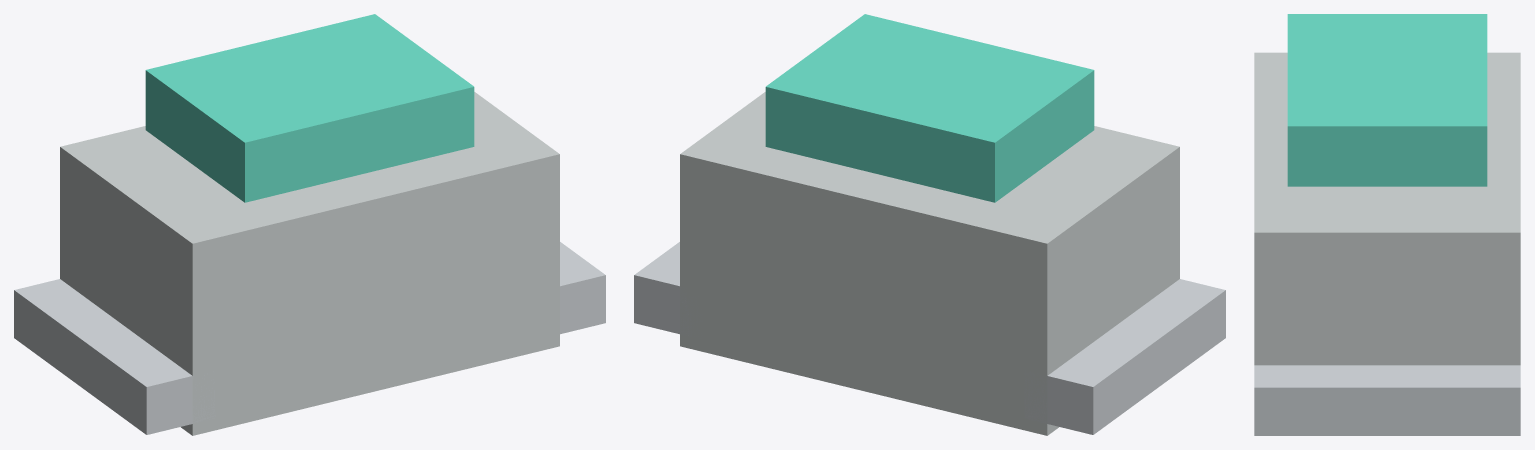
Rendered from 223_L118_LED2.glb.
3 views of the same model, side by side, from view 1: azimuth 30°, elevation 25°; view 2: azimuth 150°, elevation 25°; view 3: azimuth 270°, elevation 25° (orthographic).
Visible parts, largest first — view 1: 0000__PSMAT__ceramic_white, 0001__PSMAT__status_green, 0002__PSMAT__tin, 0003__PSMAT__tin; view 2: 0000__PSMAT__ceramic_white, 0001__PSMAT__status_green, 0002__PSMAT__tin, 0003__PSMAT__tin; view 3: 0000__PSMAT__ceramic_white, 0001__PSMAT__status_green, 0003__PSMAT__tin.
Boxes of the visible parts, bbox=[...] form: 0000__PSMAT__ceramic_white: bbox=[60, 92, 559, 435]; 0001__PSMAT__status_green: bbox=[145, 14, 474, 202]; 0002__PSMAT__tin: bbox=[14, 279, 215, 434]; 0003__PSMAT__tin: bbox=[560, 242, 605, 334]; 0000__PSMAT__ceramic_white: bbox=[680, 92, 1179, 435]; 0001__PSMAT__status_green: bbox=[765, 14, 1094, 202]; 0002__PSMAT__tin: bbox=[1024, 279, 1225, 434]; 0003__PSMAT__tin: bbox=[634, 242, 701, 338]; 0000__PSMAT__ceramic_white: bbox=[1254, 52, 1520, 365]; 0001__PSMAT__status_green: bbox=[1287, 14, 1487, 186]; 0003__PSMAT__tin: bbox=[1254, 365, 1520, 435].
Bounding box in the file's own units: 0.004 × 0.0022 × 0.002.
